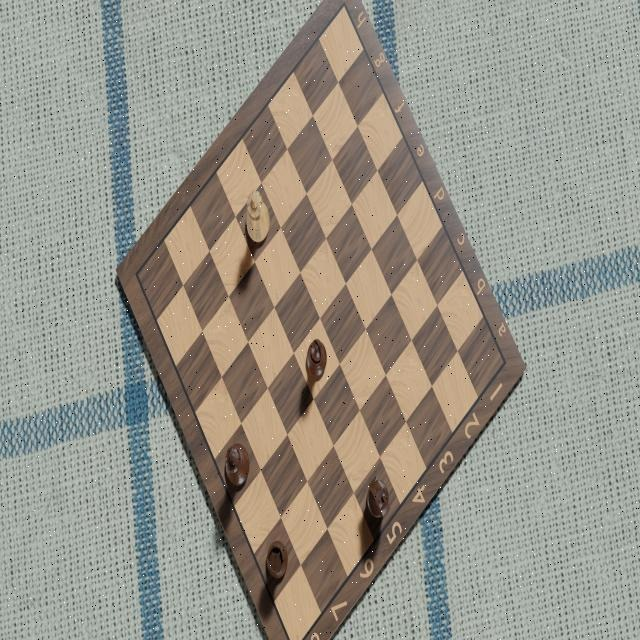black-bishop: (304, 336, 327, 379)
black-king: (224, 440, 251, 488)
black-knight: (365, 474, 391, 522)
black-rook: (265, 538, 288, 581)
white-king: (244, 188, 271, 243)
